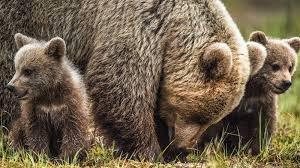bear: (0, 0, 250, 162), (200, 32, 300, 156), (8, 33, 94, 161)
